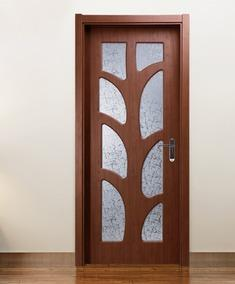door: (83, 27, 183, 267)
